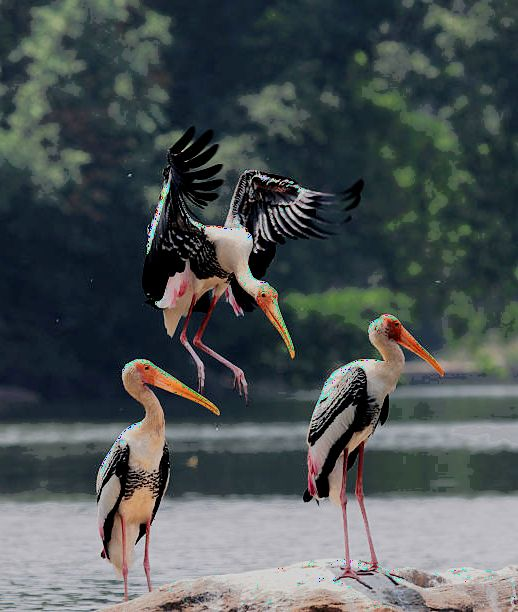Bird: (142, 117, 360, 404), (295, 310, 451, 599), (88, 346, 222, 607)
